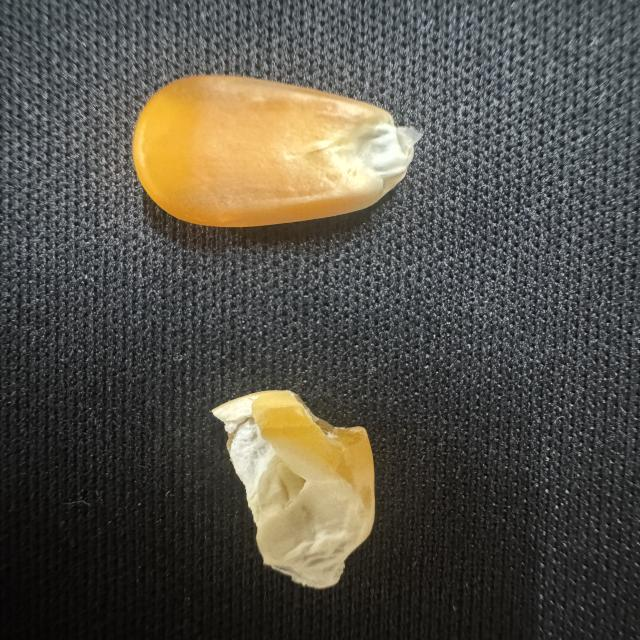Bad-Seed: (204, 375, 399, 596)
Good-Seed: (121, 65, 424, 234)
